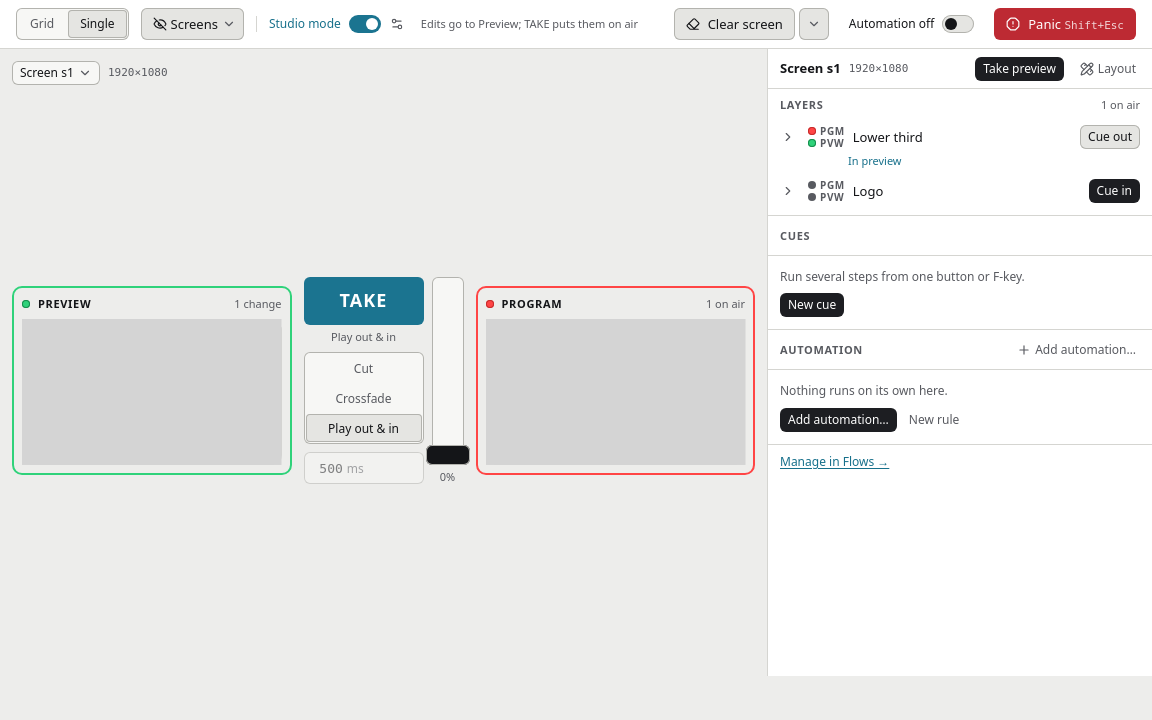
Scenario: Studio layer rows › the fields show the layer as it is in Preview
Click the button named "Fields and hotkey of Lower third" at (788, 137), box [776,125,800,149]
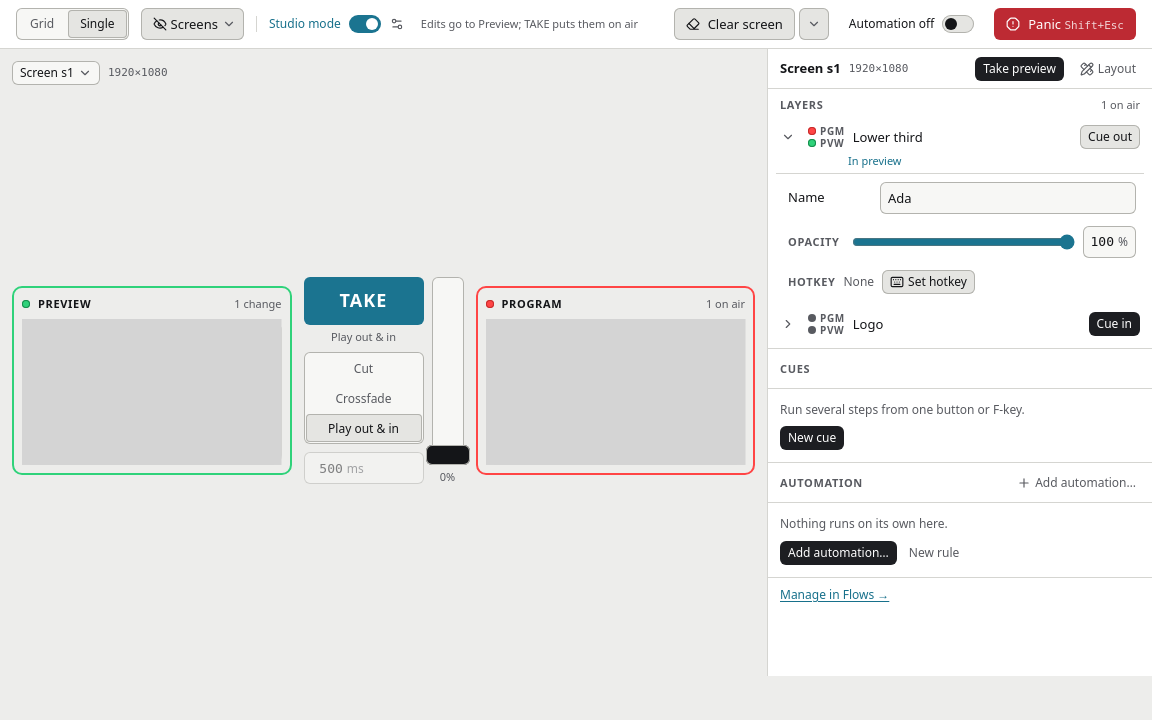
Now the field labelled "Name" holds "Ada", box [880,182,1136,214]
